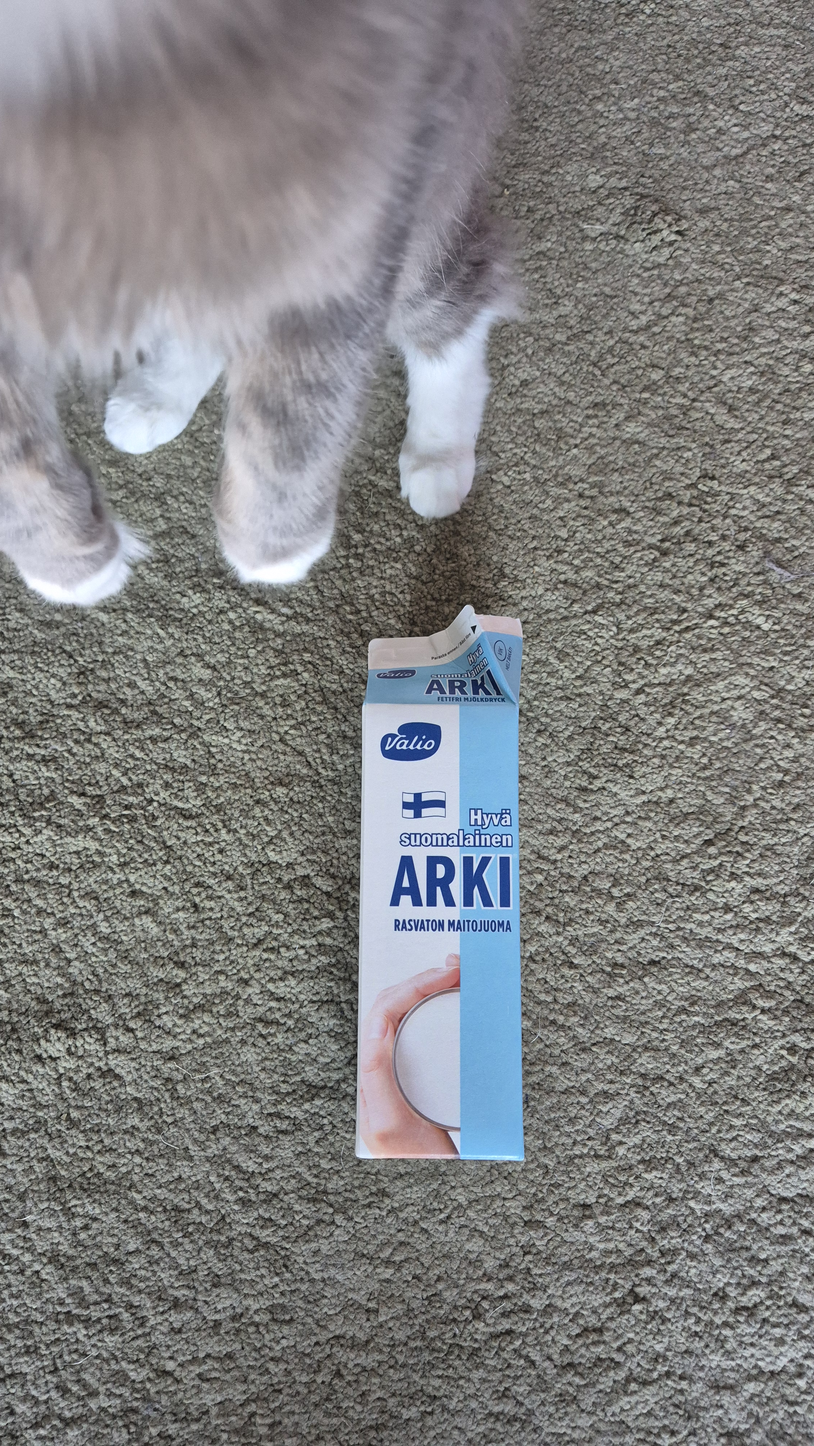Dryckeskartong: (355, 605, 526, 1161)
